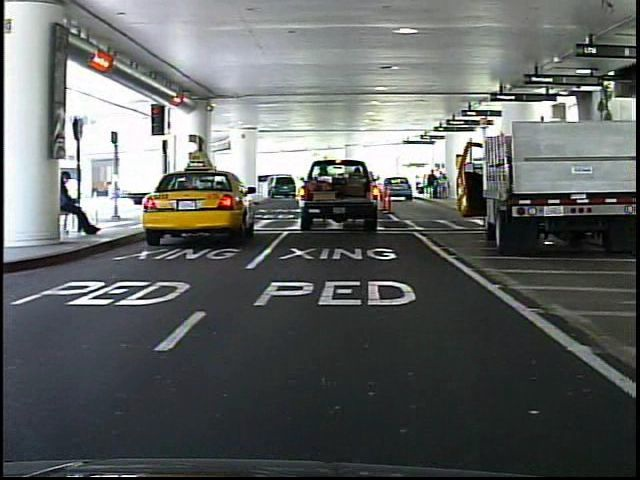person: (63, 168, 106, 242), (156, 166, 178, 219)
